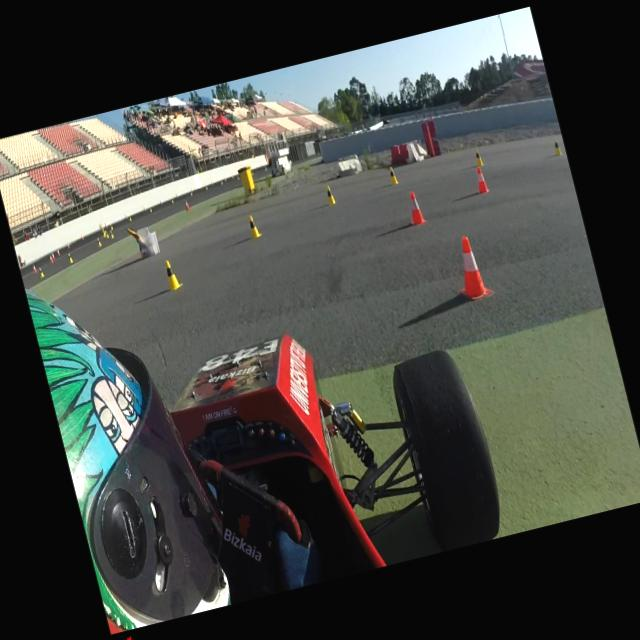orange_cone: (448, 232, 493, 303), (404, 188, 426, 226), (471, 165, 489, 194), (32, 262, 37, 272), (48, 253, 53, 263), (50, 251, 55, 260), (55, 247, 60, 256), (65, 240, 70, 248), (184, 200, 188, 210), (103, 220, 107, 228), (80, 233, 84, 240)
yellow_cone: (162, 256, 184, 292), (244, 212, 262, 238), (323, 184, 336, 205), (386, 164, 398, 186), (472, 148, 483, 166), (551, 138, 561, 156), (37, 264, 45, 278), (66, 250, 73, 263), (95, 234, 102, 247), (108, 227, 114, 239), (104, 228, 108, 238), (109, 222, 113, 230), (102, 228, 105, 238), (128, 215, 132, 221), (148, 205, 152, 211), (170, 197, 173, 203), (205, 184, 208, 190), (190, 190, 192, 196)
